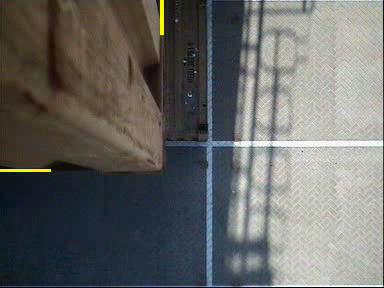groundmarker_2: (177, 187, 236, 216), (200, 3, 239, 29)
